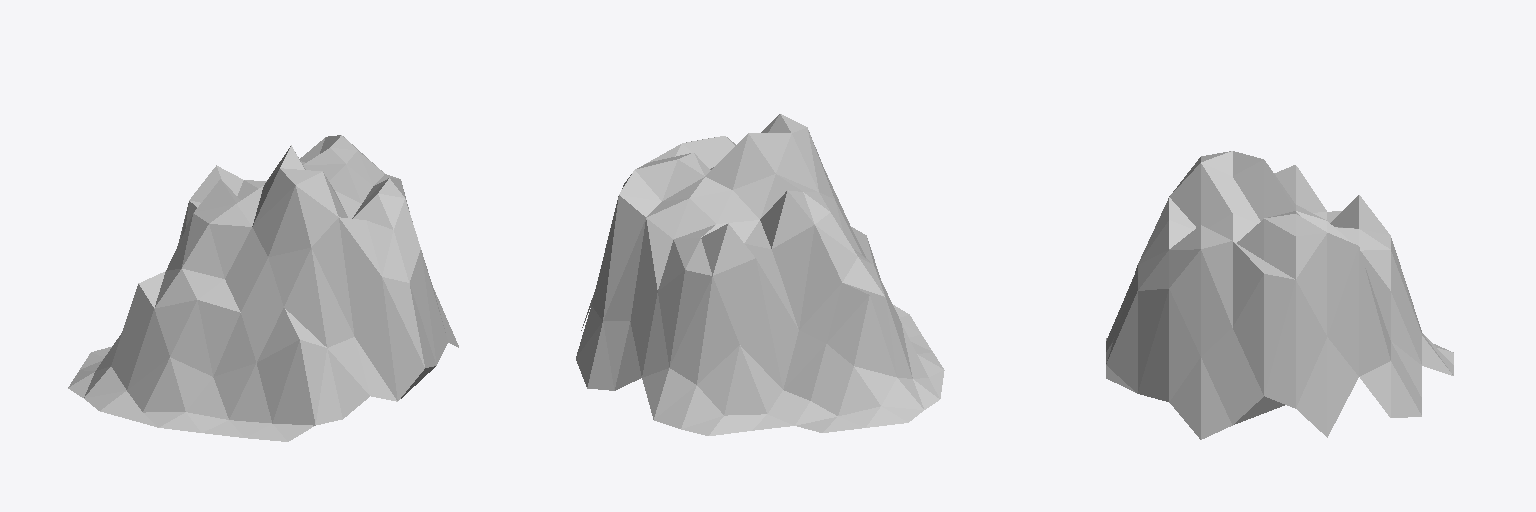
Rendered from tree_4.obj.
3 views of the same model, side by side, from view 1: azimuth 30°, elevation 25°; view 2: azimuth 150°, elevation 25°; view 3: azimuth 270°, elevation 25° (orthographic).
Parts seen in each view (by area): view 1: tree_4_minus_dtm.009; view 2: tree_4_minus_dtm.009; view 3: tree_4_minus_dtm.009.
Boxes of the visible parts, box(x1,y1,x2,y2) form: tree_4_minus_dtm.009: box(68, 135, 458, 441); tree_4_minus_dtm.009: box(576, 114, 944, 435); tree_4_minus_dtm.009: box(1106, 151, 1453, 439).
Bounding box in the file's own units: 12 × 7.67 × 11.